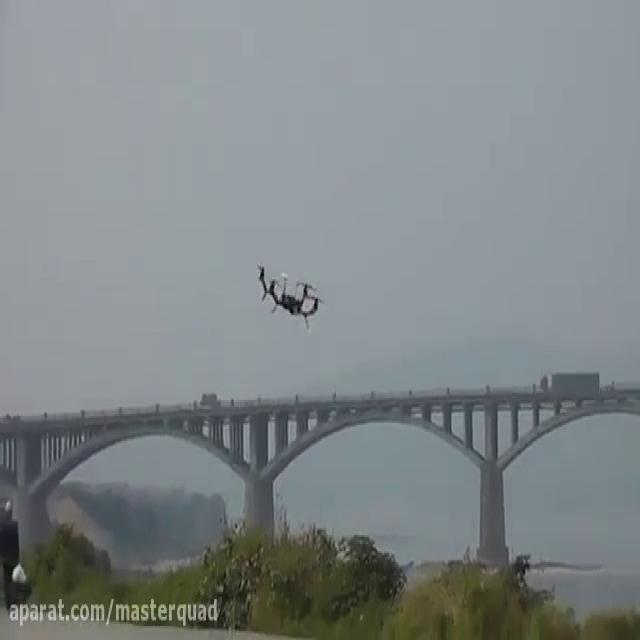drone: (253, 256, 329, 332)
